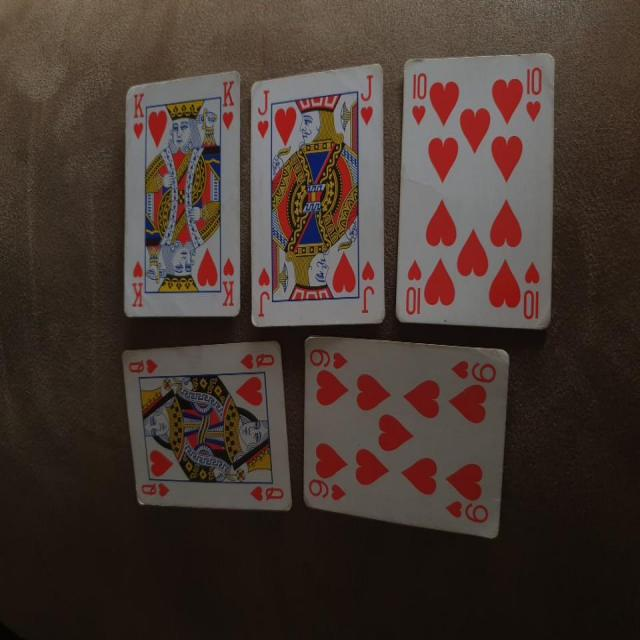10 Hearts: (396, 42, 565, 340)
9 Hearts: (294, 332, 519, 546)
J Hearts: (245, 57, 388, 339)
K Hearts: (121, 70, 246, 323)
Q Hearts: (117, 332, 296, 518)
